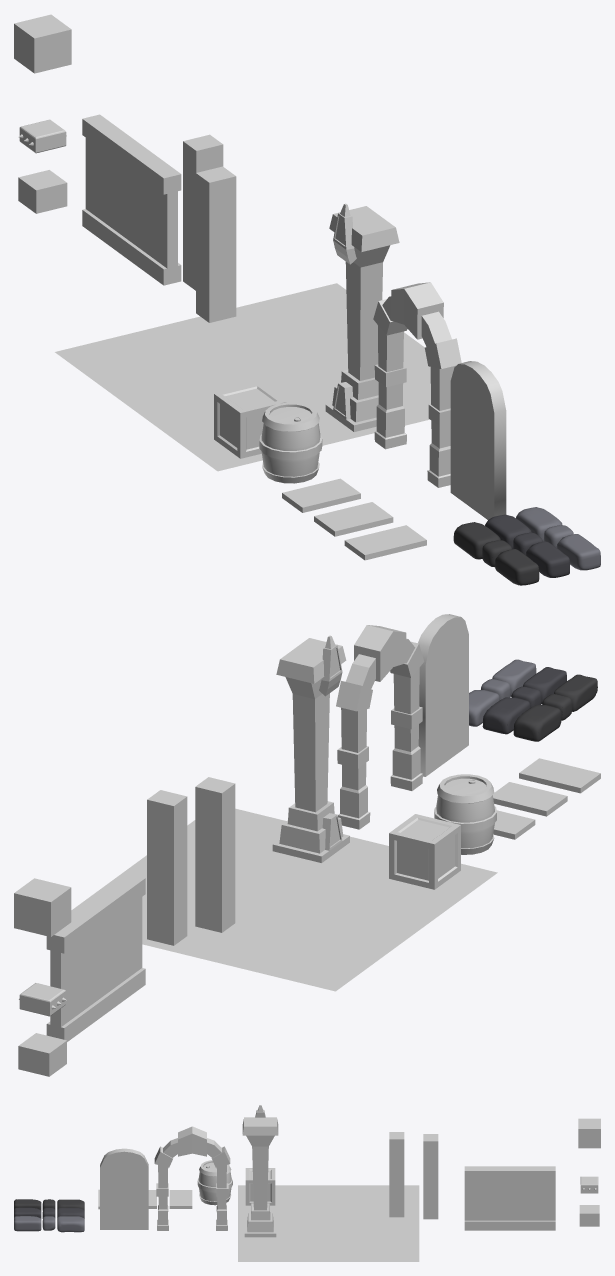
Rendered from Dungeon_Modular_v1.fbx.
The picture shows the model from 3 angles, top to bottom: view 1: azimuth 30°, elevation 25°; view 2: azimuth 150°, elevation 25°; view 3: azimuth 270°, elevation 25°; orthographic projection. The views are drawn at different scales.
Visible parts, largest first — view 1: 8x8Scale, Wall_Wooden_1, Dungeon_DoorFrame, Pillar, Dungeon_Door, Dungeon_Supporter_Beam_1, Prop_Barrel, Prop_Crate, Dungeon_Supporter_Top, Dungeon_Supporter_Beam_2, Dungeon_Supporter_Bottom, Floor_3 (+9 smaller); view 2: 8x8Scale, Wall_Wooden_1, Dungeon_DoorFrame, Pillar, Dungeon_Door, Dungeon_Supporter_Beam_2, Dungeon_Supporter_Beam_1, Prop_Crate, Prop_Barrel, Dungeon_Supporter_Top, Floor_3, Dungeon_Supporter_Bottom (+9 smaller); view 3: 8x8Scale, Wall_Wooden_1, Dungeon_Door, Dungeon_DoorFrame, Pillar, Dungeon_Supporter_Beam_2, Dungeon_Supporter_Beam_1, Prop_Barrel, Dungeon_Supporter_Top, Prop_Crate, Dungeon_Supporter_Bottom, Floor_1 (+7 smaller).
Part boxes in pixels (x1,y1,x2,y2): 8x8Scale: [55, 283, 430, 471]; Wall_Wooden_1: [82, 114, 181, 285]; Dungeon_DoorFrame: [373, 282, 461, 487]; Pillar: [325, 203, 399, 431]; Dungeon_Door: [450, 361, 506, 519]; Dungeon_Supporter_Beam_1: [196, 166, 236, 322]; Prop_Barrel: [259, 402, 322, 483]; Prop_Crate: [214, 382, 286, 458]; Dungeon_Supporter_Top: [14, 14, 71, 73]; Dungeon_Supporter_Beam_2: [183, 134, 223, 290]; Dungeon_Supporter_Bottom: [18, 170, 67, 213]; Floor_3: [344, 525, 426, 560]; 8x8Scale: [71, 808, 497, 991]; Wall_Wooden_1: [46, 874, 145, 1041]; Dungeon_DoorFrame: [336, 625, 424, 829]; Pillar: [272, 635, 349, 862]; Dungeon_Door: [418, 614, 468, 776]; Dungeon_Supporter_Beam_2: [147, 790, 187, 945]; Dungeon_Supporter_Beam_1: [195, 777, 235, 932]; Prop_Crate: [389, 814, 460, 889]; Prop_Barrel: [434, 774, 496, 854]; Dungeon_Supporter_Top: [14, 878, 71, 936]; Floor_3: [519, 758, 600, 793]; Dungeon_Supporter_Bottom: [18, 1033, 66, 1076]; 8x8Scale: [238, 1185, 419, 1261]; Wall_Wooden_1: [464, 1166, 555, 1230]; Dungeon_Door: [100, 1148, 148, 1229]; Dungeon_DoorFrame: [154, 1126, 230, 1230]; Pillar: [242, 1105, 278, 1237]; Dungeon_Supporter_Beam_2: [423, 1134, 438, 1219]; Dungeon_Supporter_Beam_1: [389, 1132, 404, 1217]; Prop_Barrel: [197, 1160, 232, 1205]; Dungeon_Supporter_Top: [578, 1118, 600, 1148]; Prop_Crate: [245, 1168, 275, 1205]; Dungeon_Supporter_Bottom: [579, 1205, 599, 1226]; Floor_1: [169, 1190, 192, 1208].
Bounding box in the file's own units: 16 × 11.83 × 51.74.
